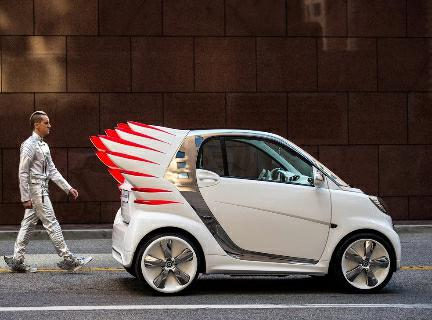smart-forjeremy: (81, 120, 406, 294)
